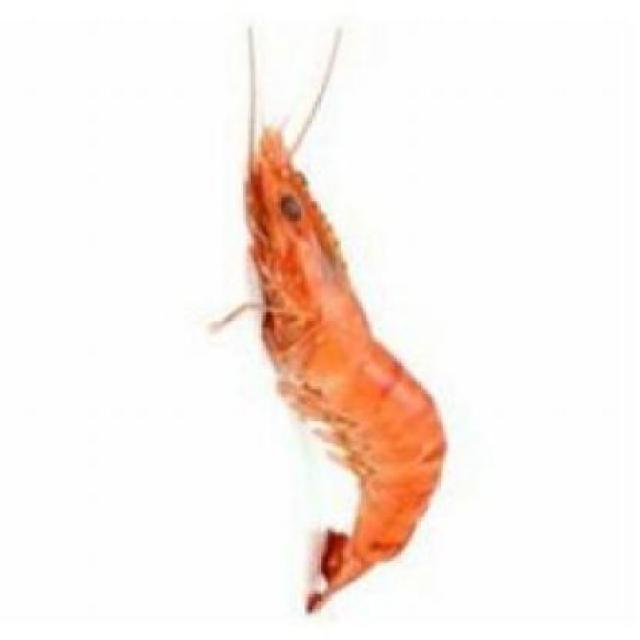shrimp: (238, 119, 452, 624)
